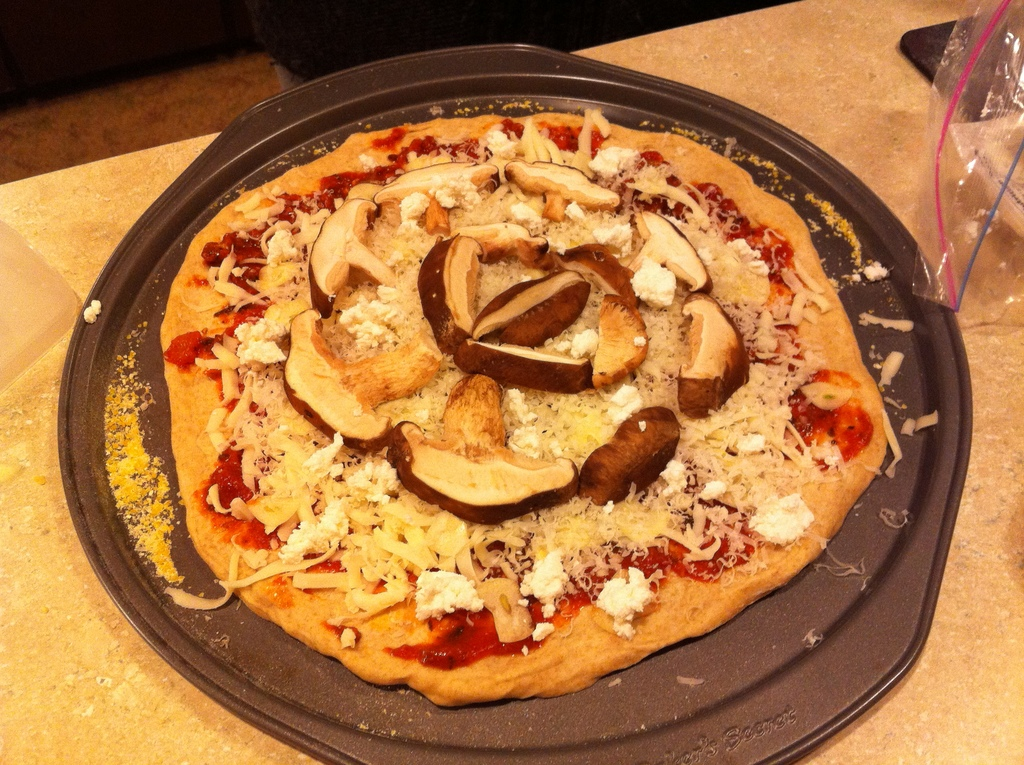Pizza: (156, 107, 884, 706)
